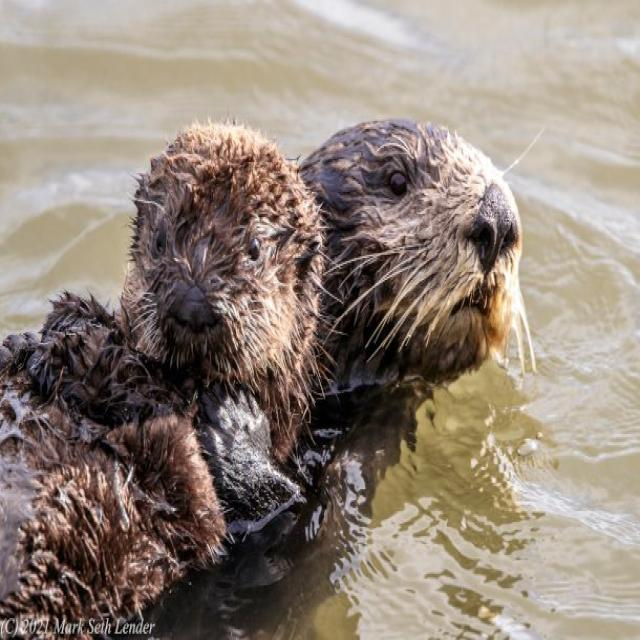Otter: (0, 117, 325, 572), (321, 104, 528, 386)
